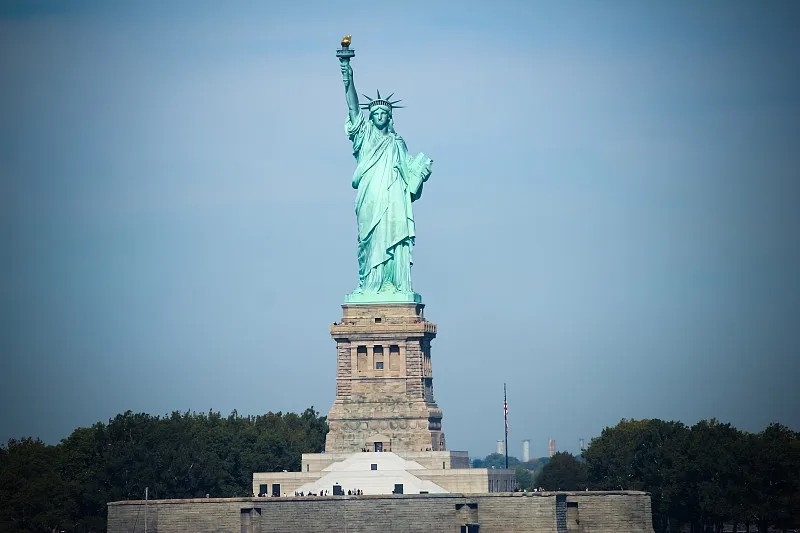SL: (325, 34, 447, 452)
